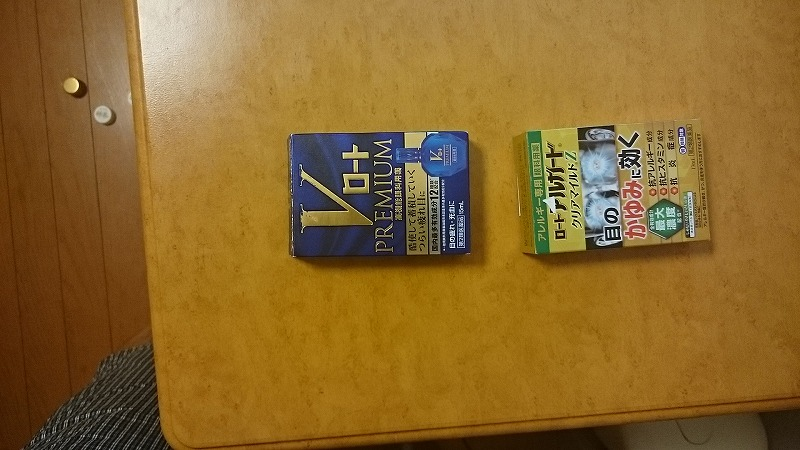C: (506, 108, 717, 256)
D: (283, 128, 480, 262)
